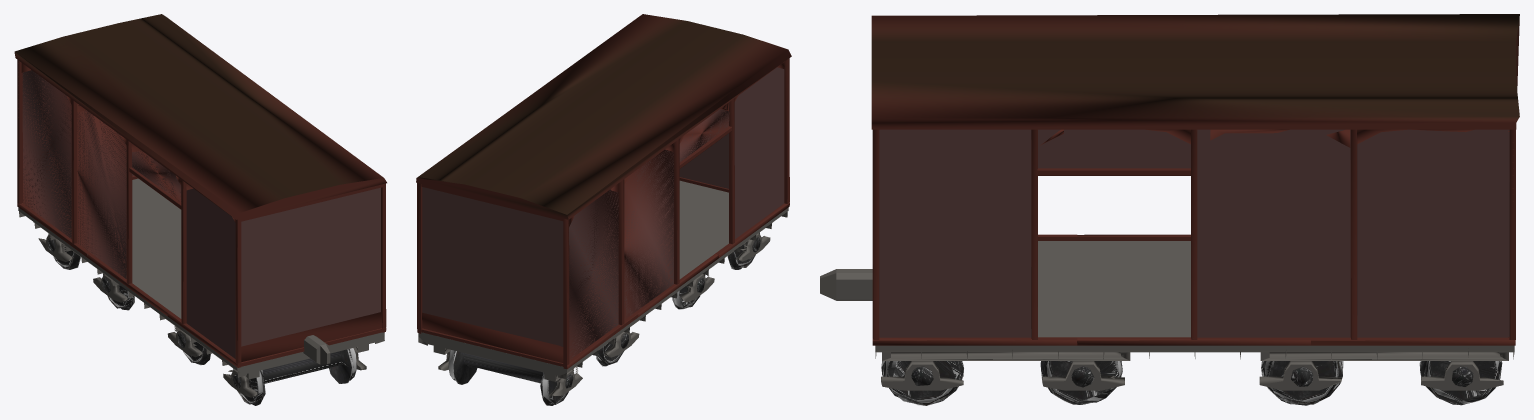
The model's file is boxcar.lod0.glb.
3 views of the same model, side by side, from view 1: azimuth 30°, elevation 25°; view 2: azimuth 150°, elevation 25°; view 3: azimuth 270°, elevation 25° (orthographic). The views are drawn at different scales.
Bounding box in the file's own units: 4.72 × 6.42 × 13.
Materials: 2 (1 with a texture image).
